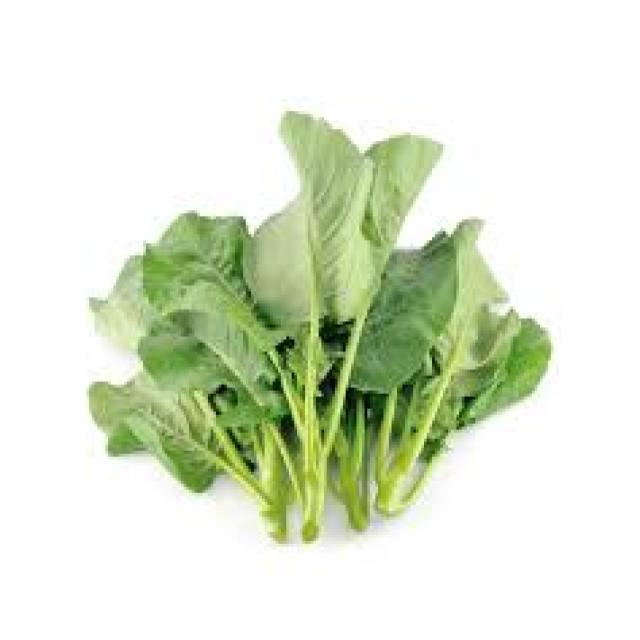collard: (80, 112, 552, 543)
